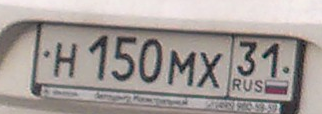character: (139, 36, 164, 86), (112, 35, 138, 82), (167, 49, 196, 88), (198, 50, 222, 93), (89, 32, 108, 82), (53, 42, 77, 80), (236, 40, 258, 78), (262, 40, 281, 80)
